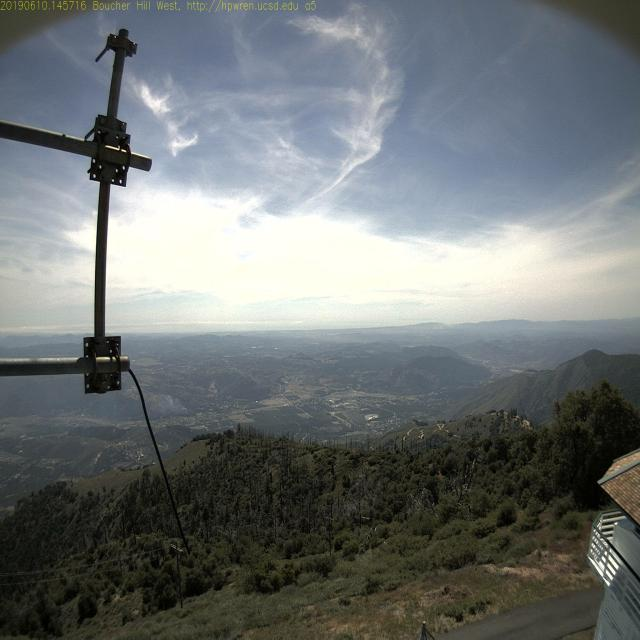smoke: (174, 395, 194, 421)
